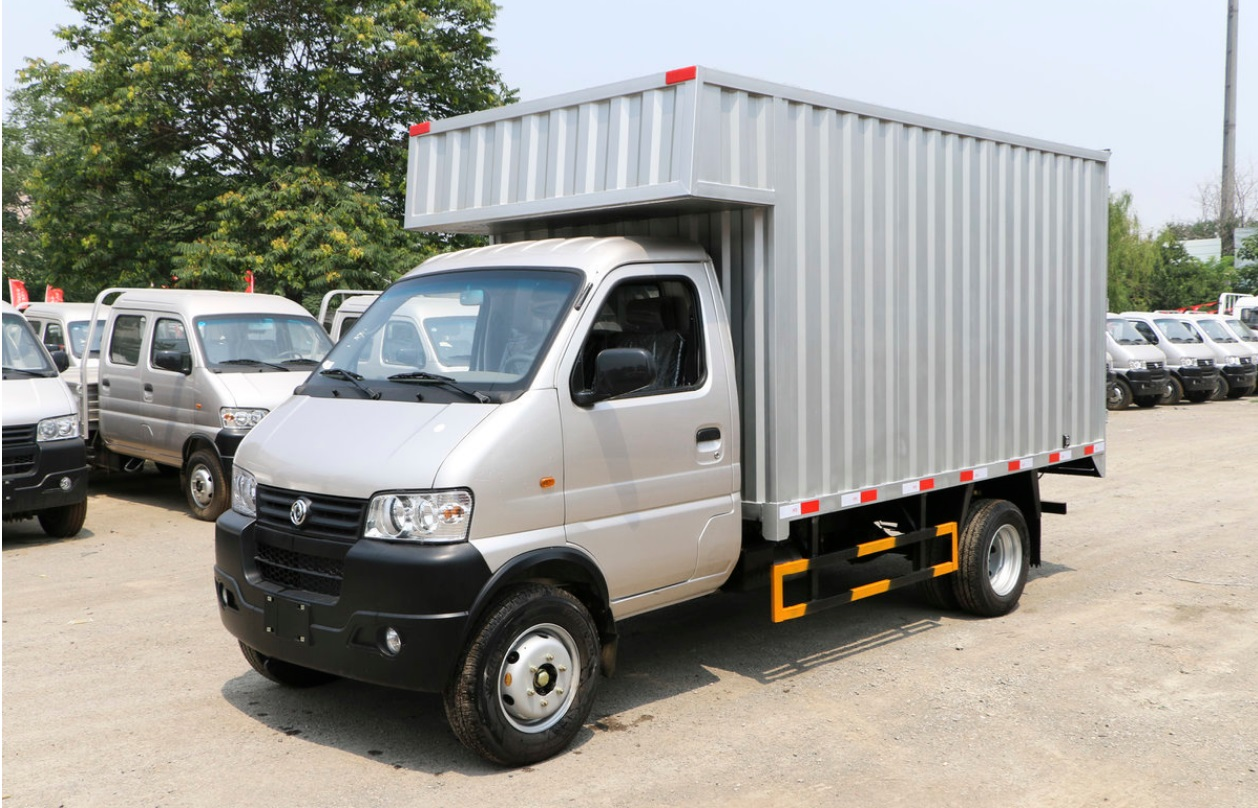truck: (209, 68, 1113, 771)
